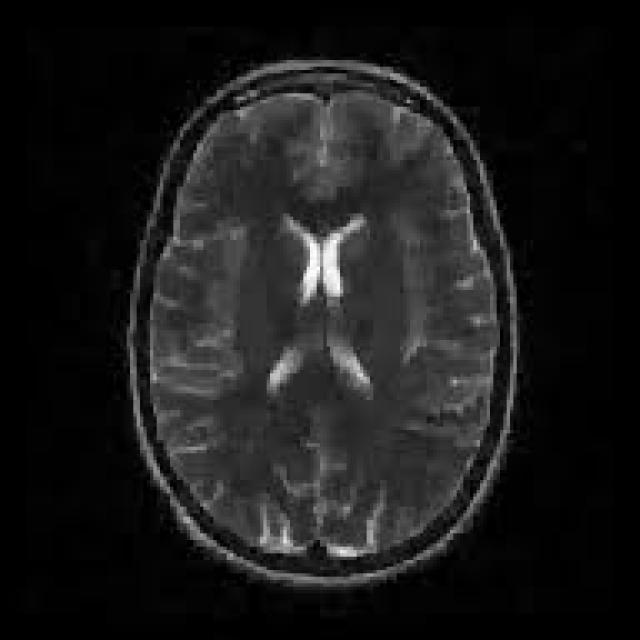notumor: (117, 60, 523, 597)
